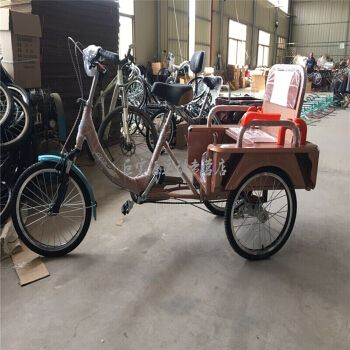empty: (23, 31, 329, 261)
